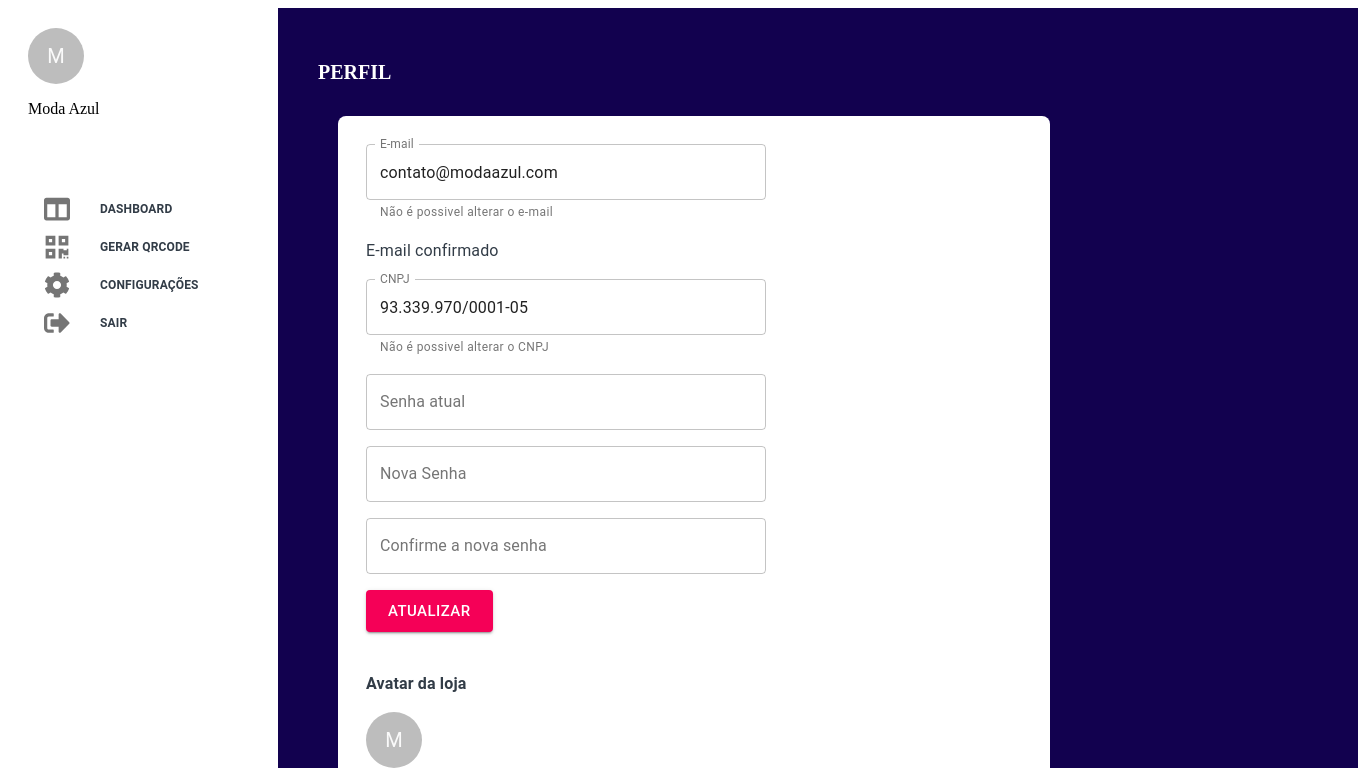
Test: Configurações do estabelecimento › senhas diferentes: mensagem e nenhuma requisição
Type "senha-antiga-1" into the password field labelled "Senha atual" at coordinates (566, 402), box [366,374,766,430]
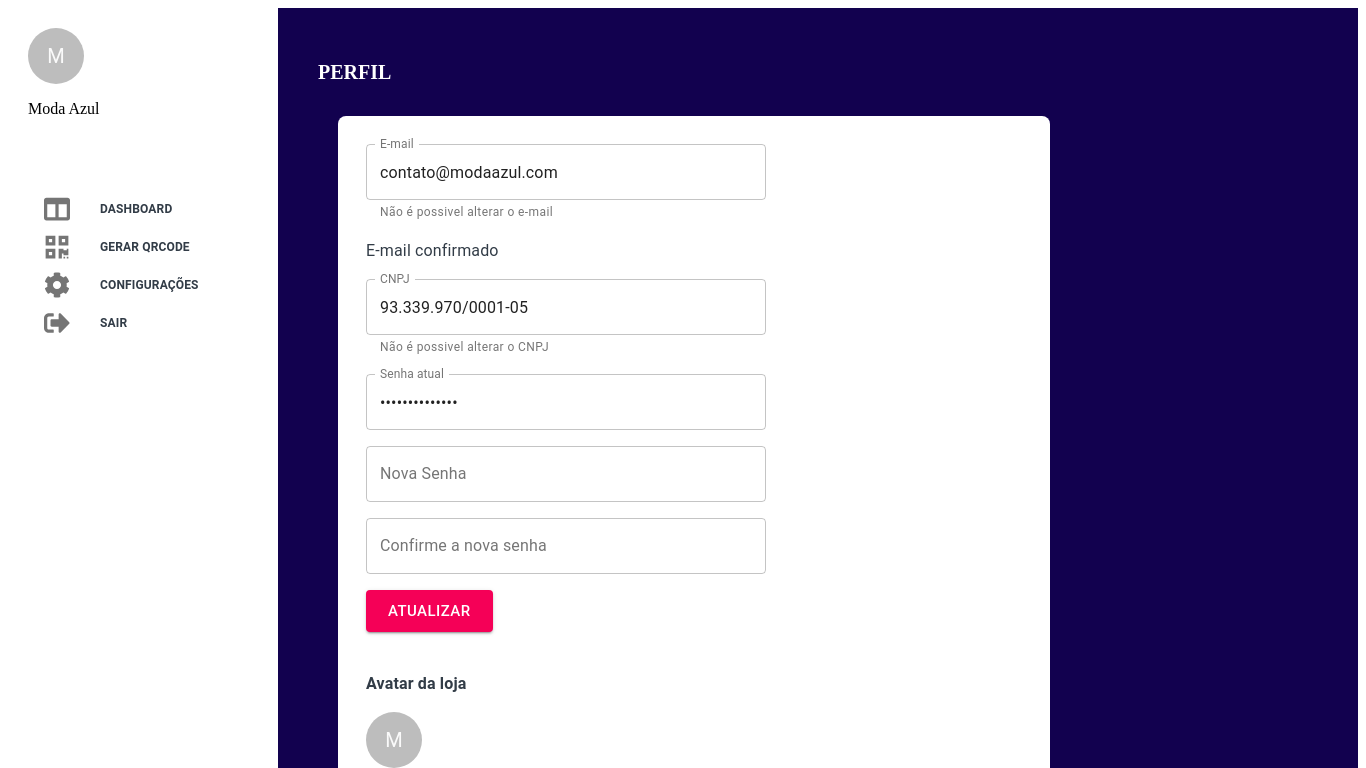
Type "senha-nova-22" into the password field labelled "Nova Senha" at coordinates (566, 474), box [366,446,766,502]
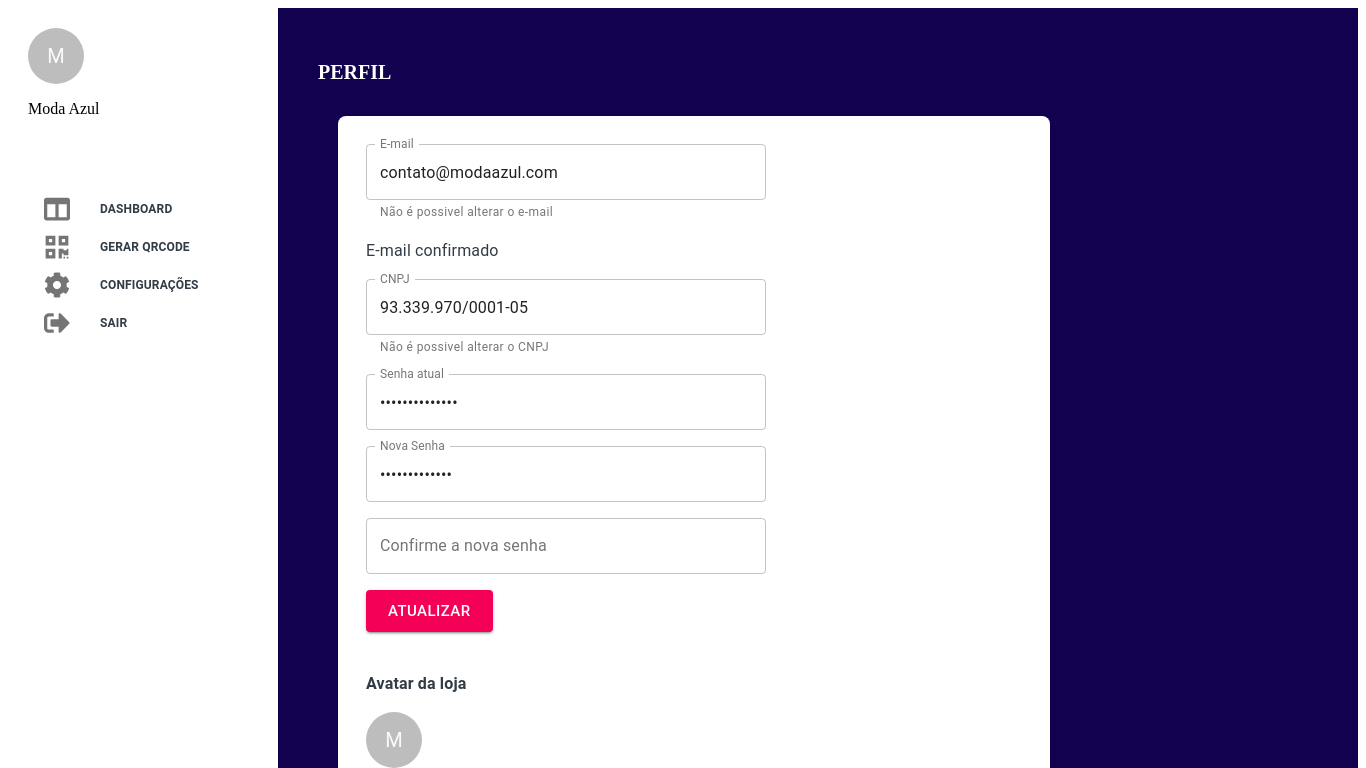
Type "outra-coisa-99" into the password field labelled "Confirme a nova senha" at coordinates (566, 546), box [366,518,766,574]
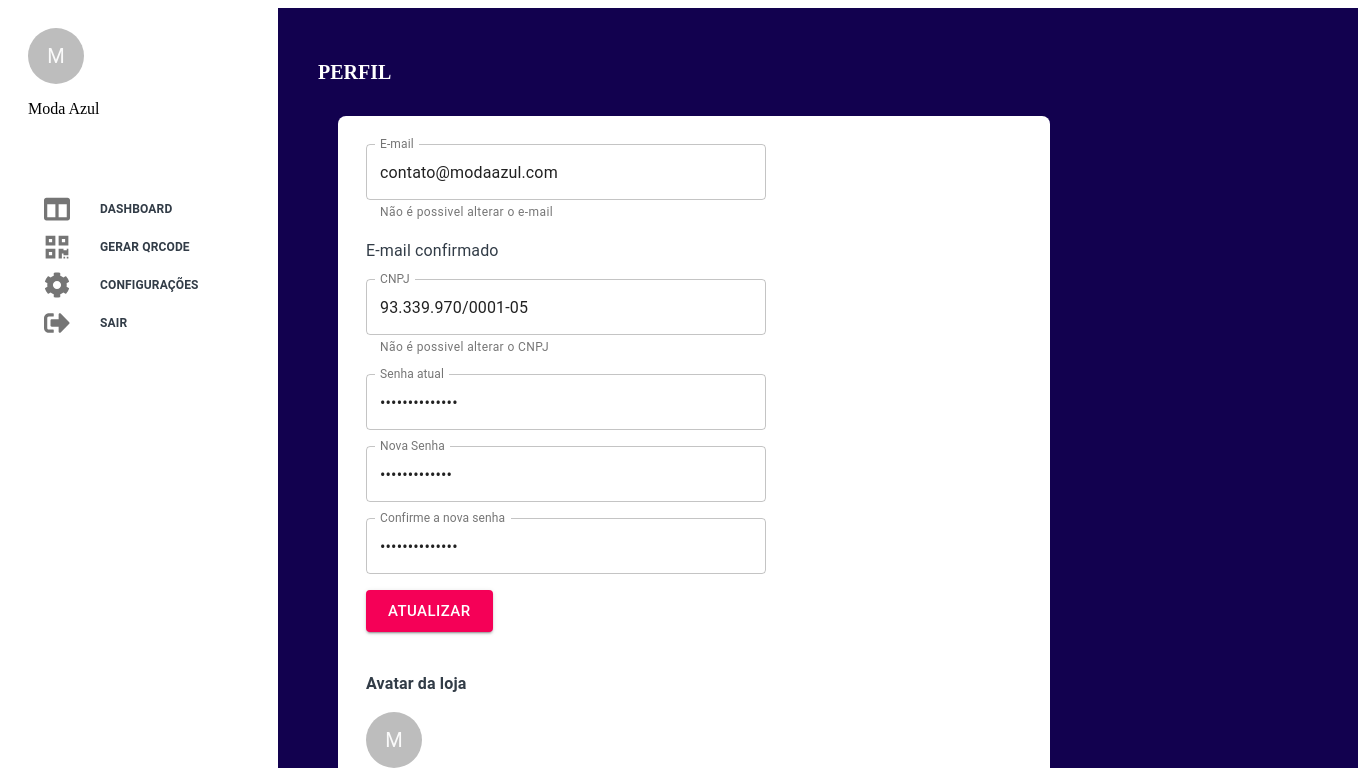
Submit the form named "Nova Senha", box [366,137,766,632]
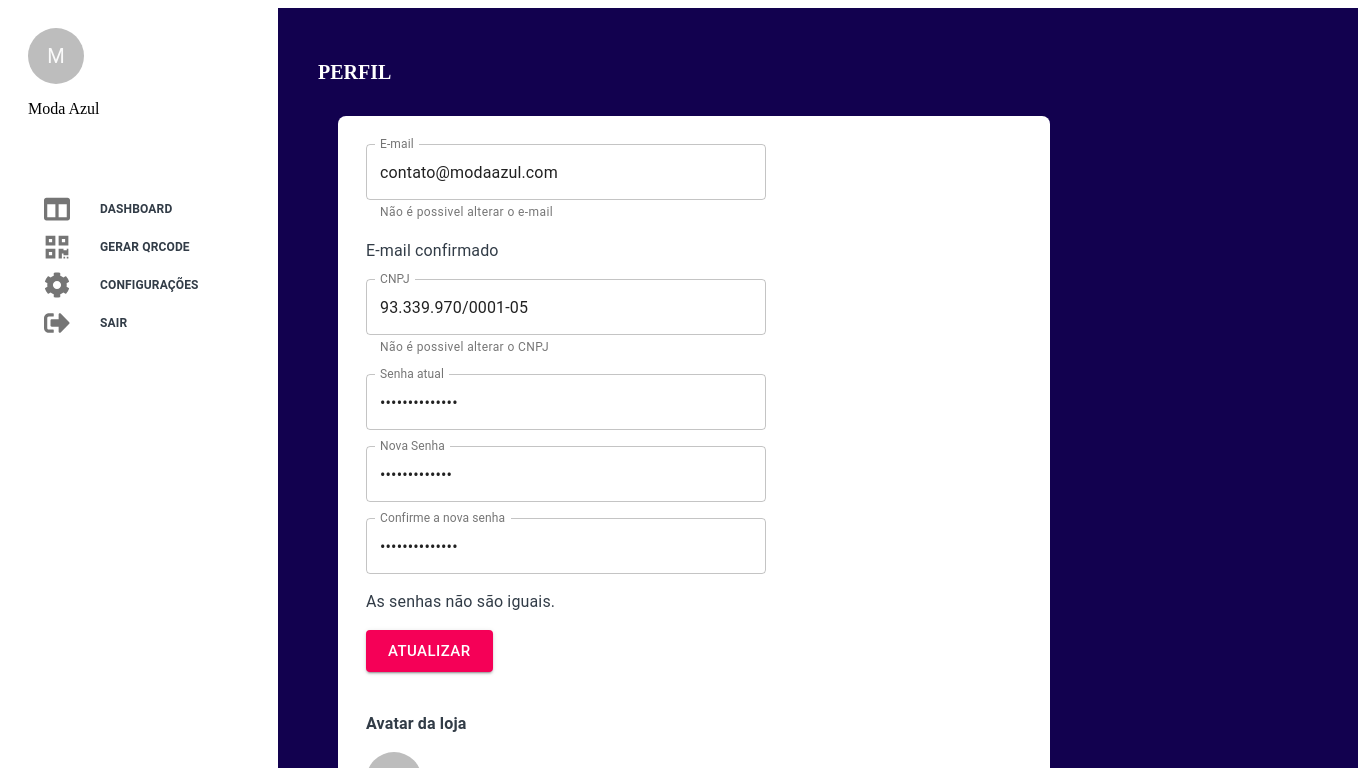
Expected: the text "As senhas não são iguais." is shown, [366,592,555,611]
